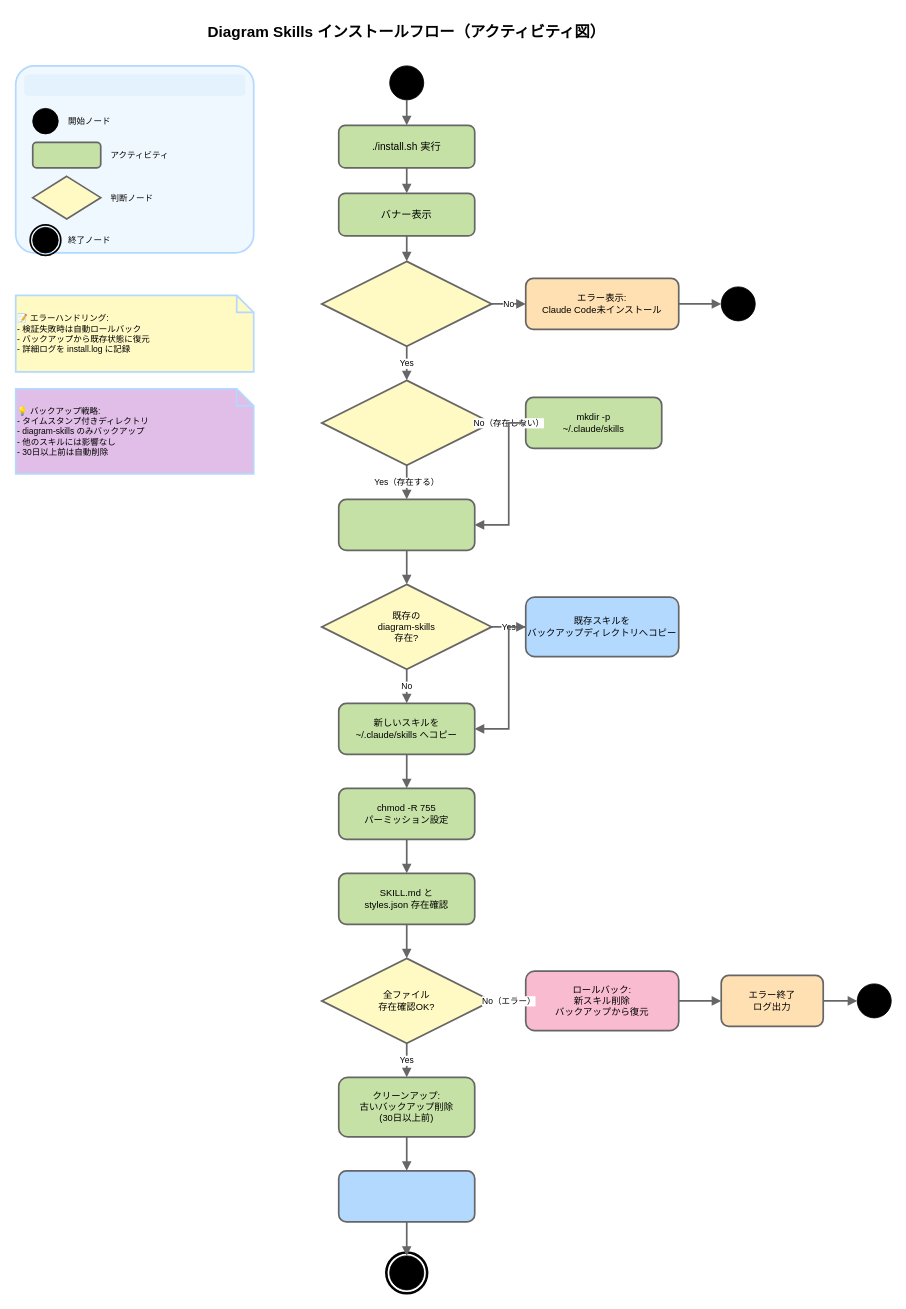
This 906x1309 diagram has some shape labels left out. The shapes that lost their labels are listed below. From the top down, each one's centre as x and y in pixels, then its label:
point 134,84: 凡例
point 66,154: 処理
point 66,197: 判断
point 406,303: Claude Code インストール済み?
point 406,422: スキルディレクトリ 存在確認
point 406,524: バックアップディレクトリ作成 (タイムスタンプ付き)
point 406,1196: 完了メッセージ表示 使用方法の案内
